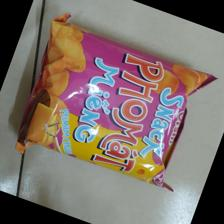Oishi_phomat: (14, 10, 217, 195)
